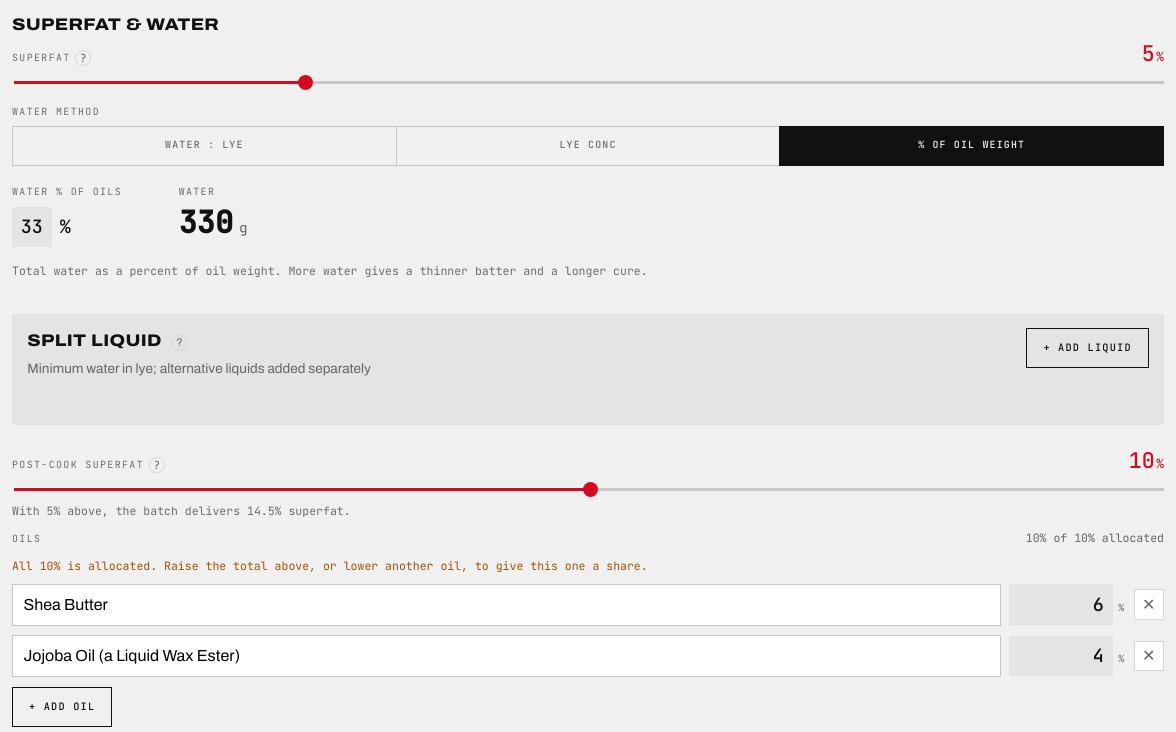
Test: lowering the total below the allocated sum trims the oils to fit
Replace the text in the number field named "Post-cook superfat total %" with "5" at (1120, 460), box [1084,444,1155,476]
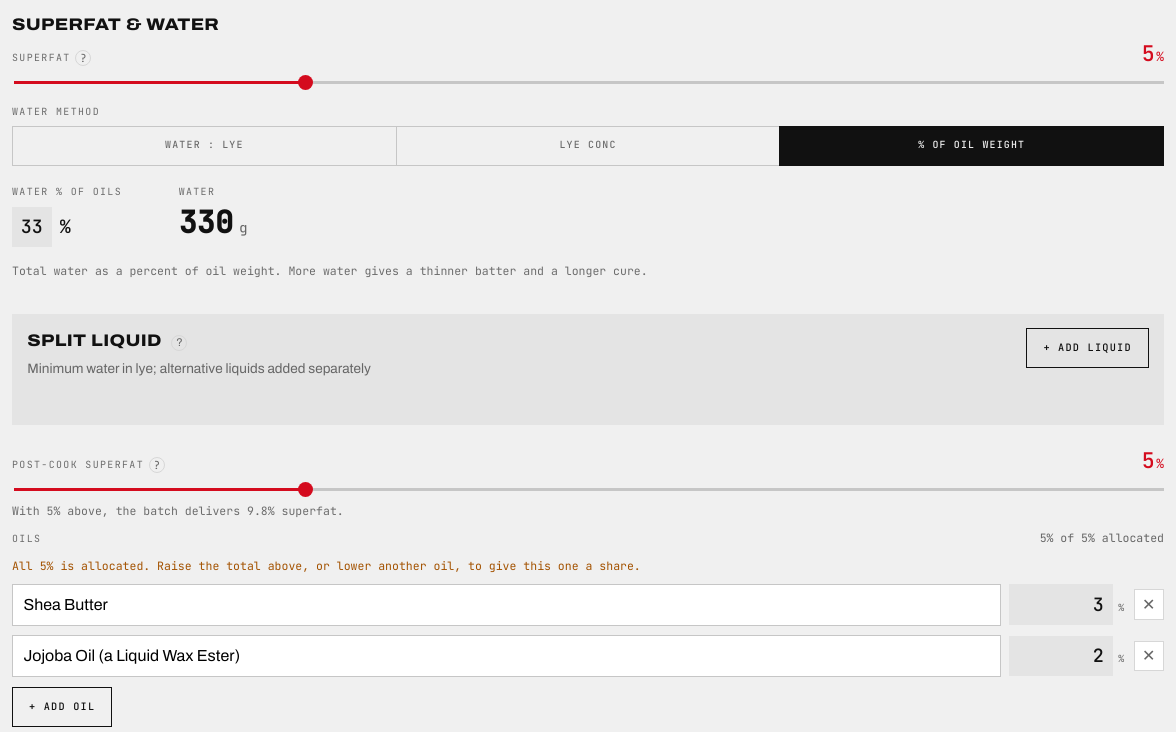
Now the number field named "Post-cook superfat % 1" holds "3", box [1009,584,1113,625]
Now the number field named "Post-cook superfat % 2" holds "2", box [1009,636,1113,676]
